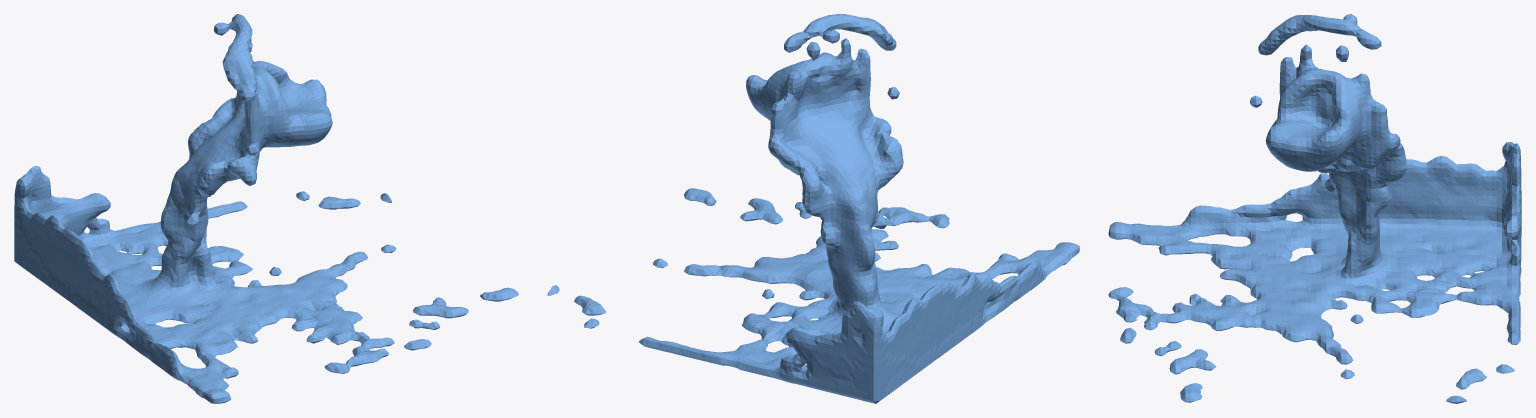
Rendered from water_0047.glb.
The picture shows the model from 3 angles, left to right: view 1: azimuth 30°, elevation 25°; view 2: azimuth 150°, elevation 25°; view 3: azimuth 270°, elevation 25°; orthographic projection. The views are drawn at different scales.
Parts seen in each view (by area): view 1: Water_0047; view 2: Water_0047; view 3: Water_0047.
Part boxes in pixels (bbox=[...]): Water_0047: bbox=[14, 14, 518, 403]; Water_0047: bbox=[547, 14, 1079, 403]; Water_0047: bbox=[1108, 14, 1521, 403].
Bounding box in the file's own units: 4.82 × 3.64 × 4.8.
